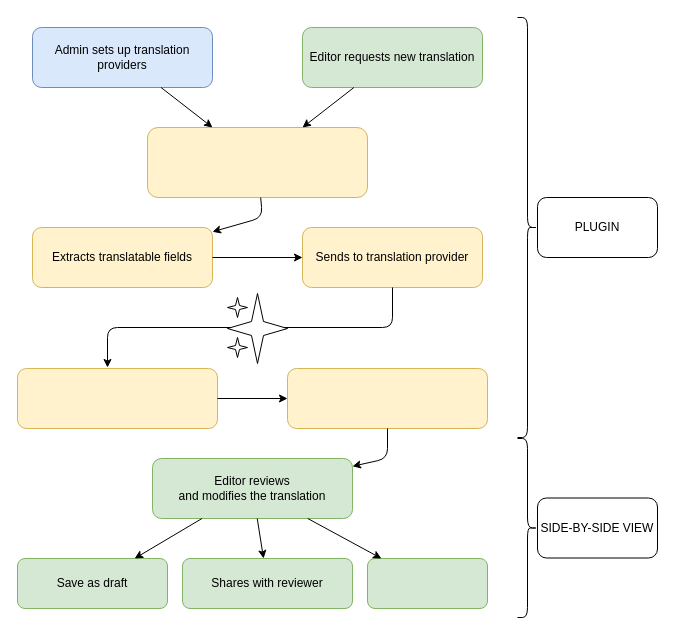
Image size: 675x635. Some labels were removed from this diagram. The centre of each missing label's shape, as x and y in pixels:
Creates target-language draft: pixel 387 398
Publishes: pixel 427 583
Receives translated strings: pixel 117 398
Resolves provider (language-pair / user selection): pixel 257 162
